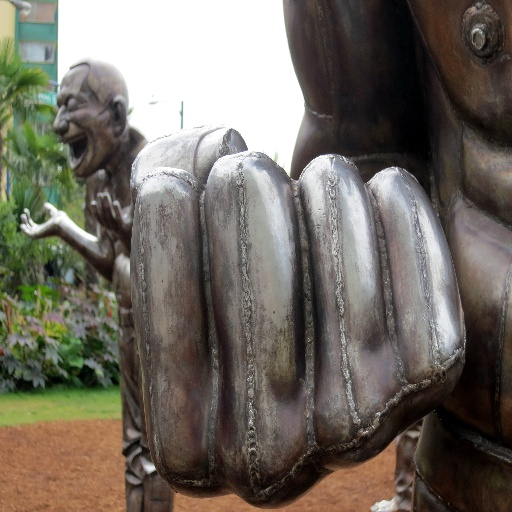hand: (129, 122, 470, 510), (88, 189, 134, 243), (17, 200, 69, 241)
